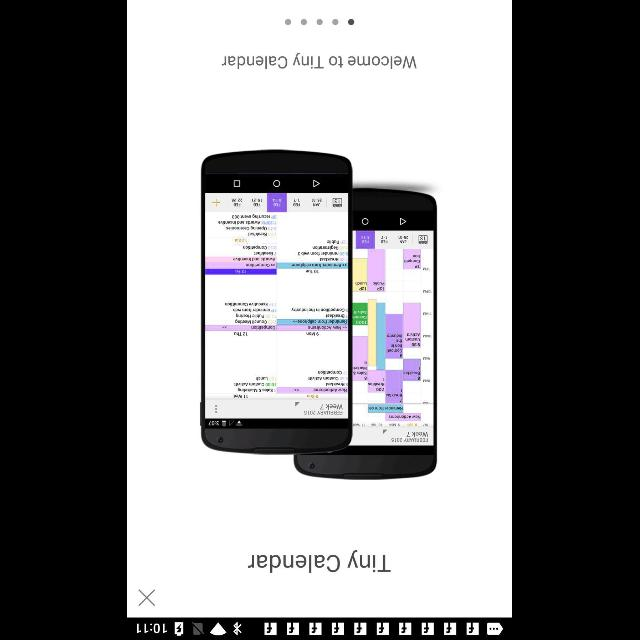icon: (140, 588, 156, 606)
image: (200, 150, 438, 480)
pageindicator: (286, 18, 356, 26)
text: (222, 52, 418, 70), (248, 550, 392, 572)
uppertaskbar: (128, 617, 512, 639)
